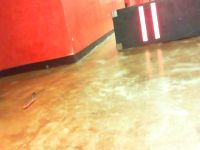switch: (150, 3, 162, 40), (138, 6, 148, 42)
